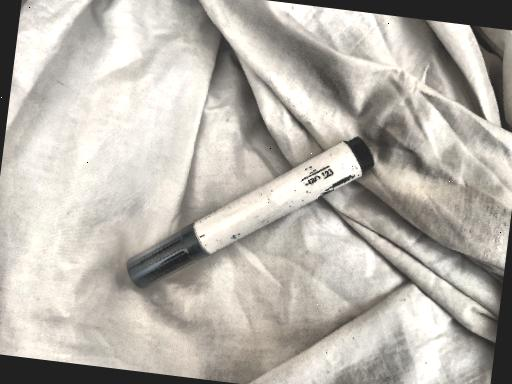marcador negro: (127, 137, 373, 288)
